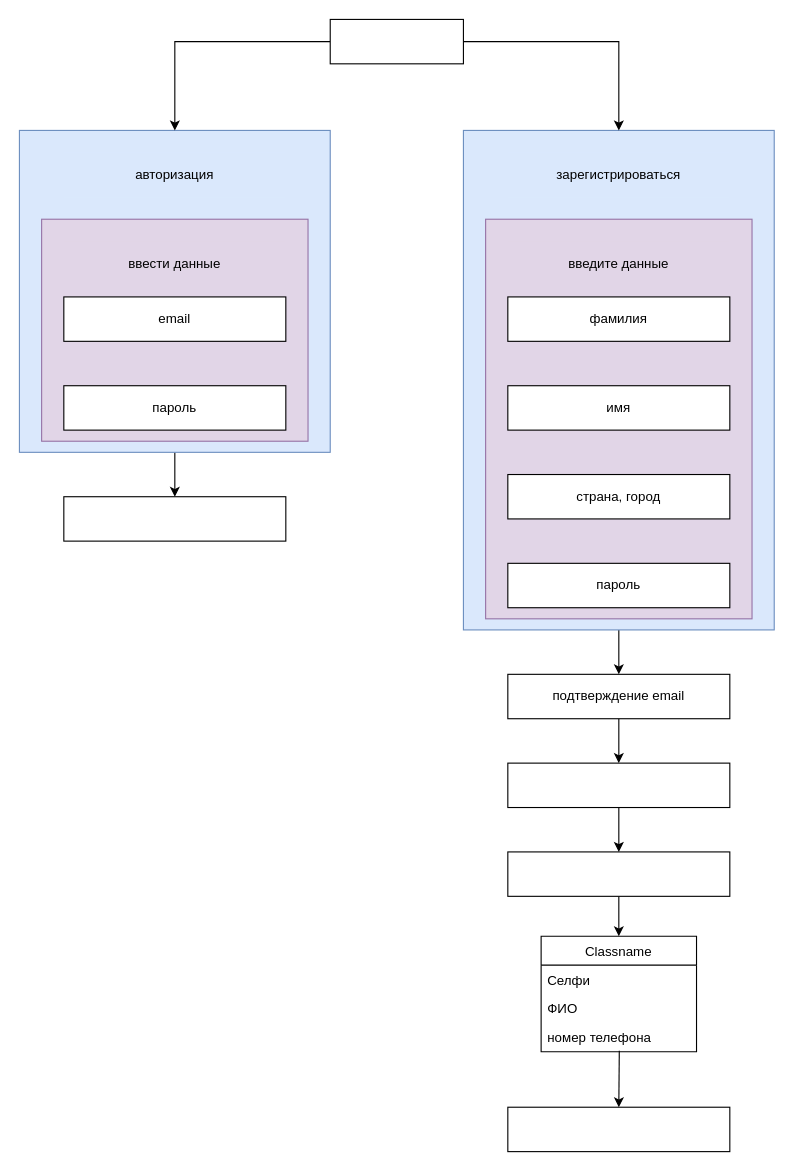
The diagram is 794 pixels wide and 1171 high, and some of its shapes have lost their labels. Here are the shapes that lost their labels. From the top down, the centre of each, then its label:
(396,41): Авторизация/ Регситрация
(174,518): на главную страницу
(618,785): ввести код подтверждения
(618,873): страница верификации
(618,1129): подтверждение верификации
